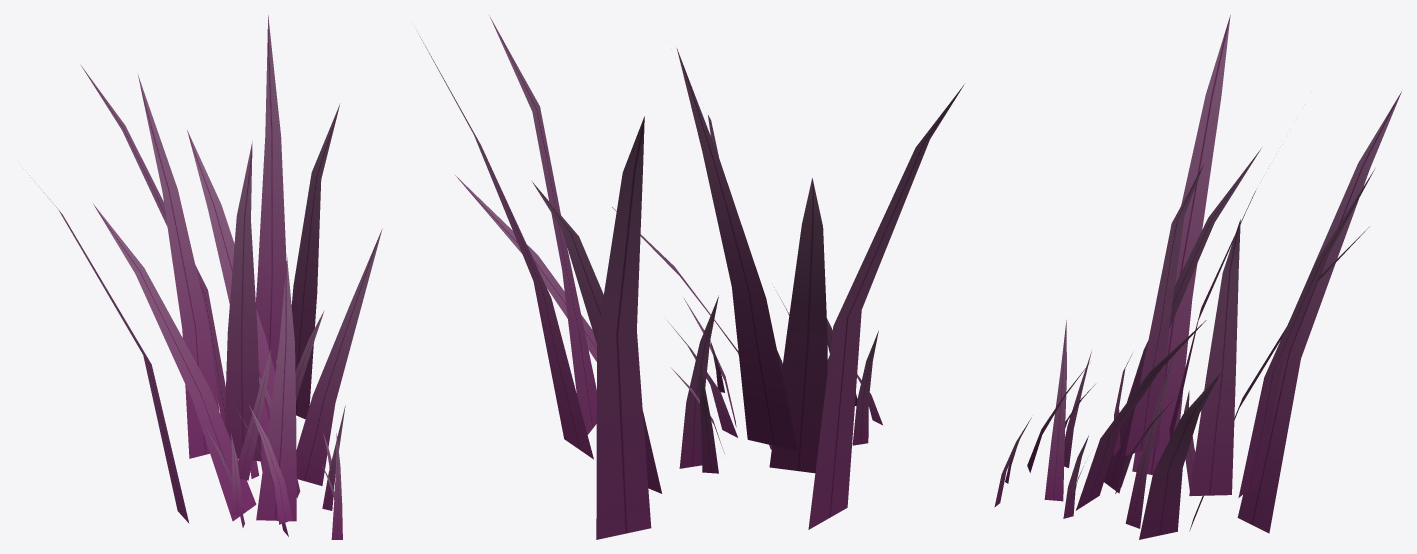
The model's file is Grass_new.fbx.
3 renders of one model, left to right at view 1: azimuth 30°, elevation 25°; view 2: azimuth 150°, elevation 25°; view 3: azimuth 270°, elevation 25°, orthographic. The views are drawn at different scales.
Parts seen in each view (by area): view 1: pPlane18; view 2: pPlane18; view 3: pPlane18.
Boxes of the visible parts, box(x1,y1,x2,y2) form: pPlane18: box(29, 15, 382, 539); pPlane18: box(417, 15, 964, 539); pPlane18: box(994, 15, 1401, 539).
Bounding box in the file's own units: 3.24 × 3.25 × 2.94.
Materials: 1 (1 with a texture image).
